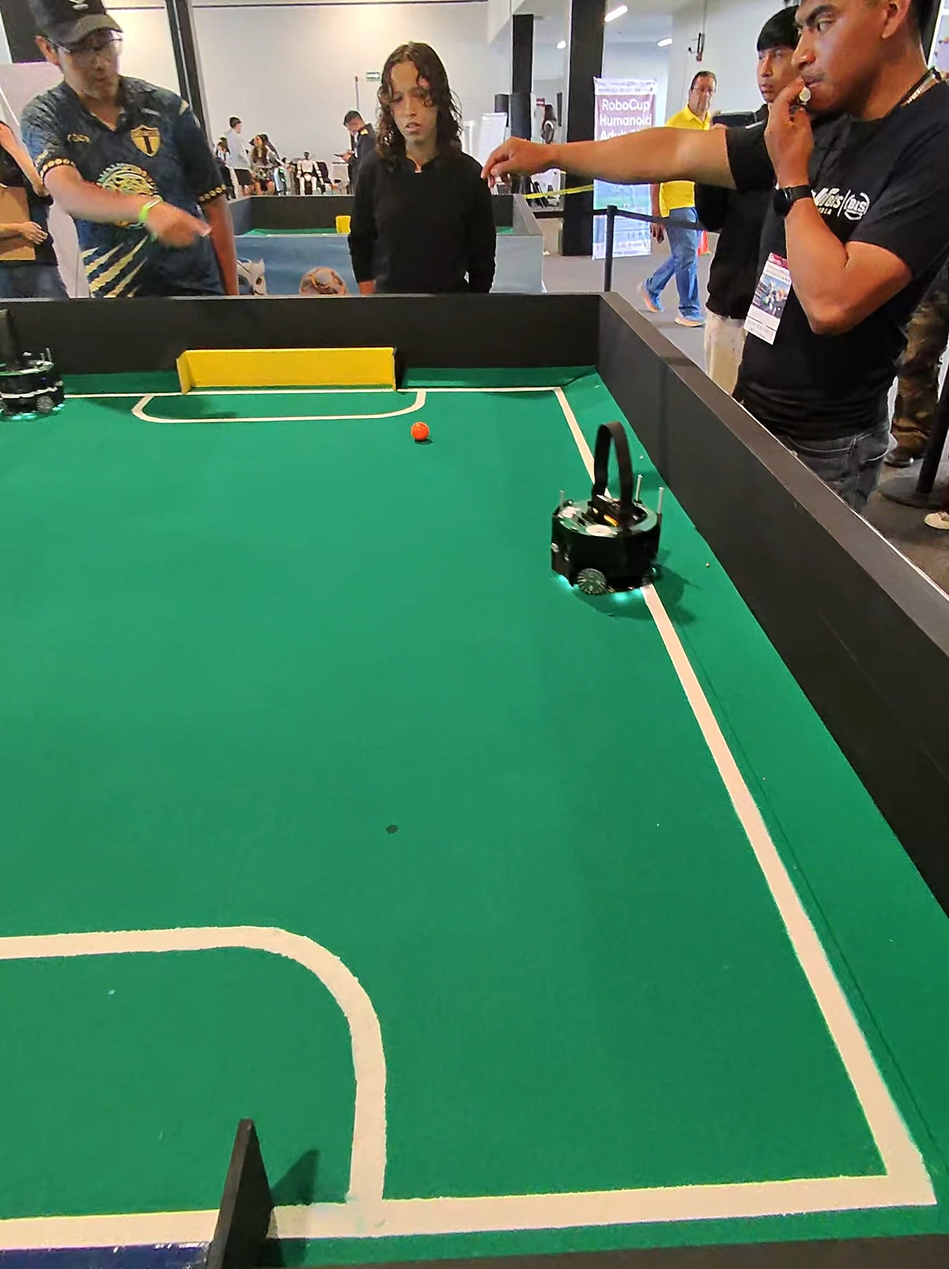Robot: (526, 391, 686, 627), (0, 307, 124, 451)
pelota: (389, 403, 458, 469)
